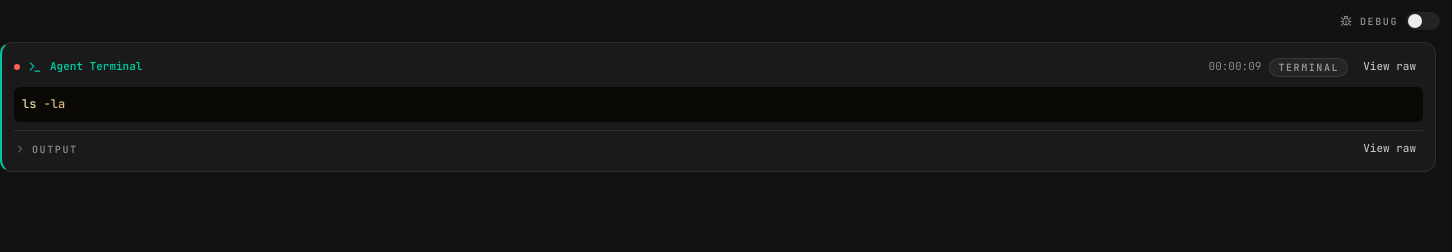
Scenario: ReplayTimeline › merges a terminal command and its output into one card, output collapsed below the command
Expected: the element that starts with "Agent Terminal" shows "ls -la", [0,42,1436,172]
Expected: the text "total 48" is not shown
Click the button "output" at (46,149), box [14,143,78,156]
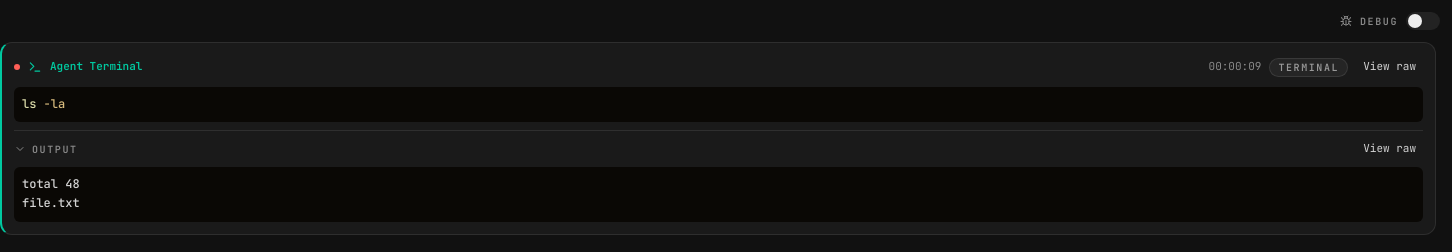
Expected: the text "total 48 file.txt" is shown, [14,167,1423,222]
